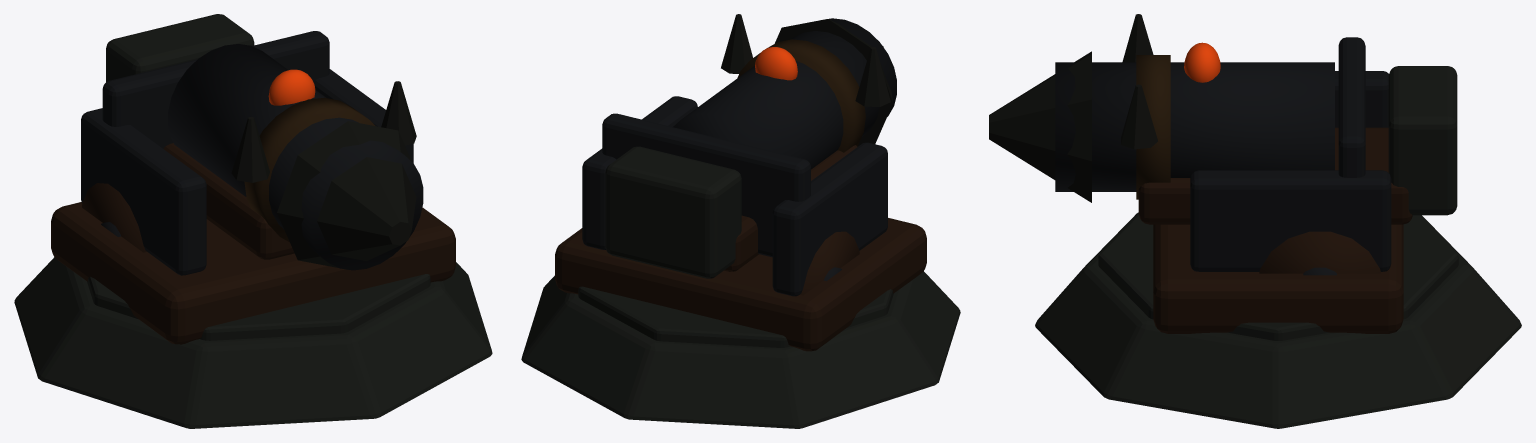
Rendered from TowerDestroy3_pose.obj.
The picture shows the model from 3 angles, left to right: view 1: azimuth 30°, elevation 25°; view 2: azimuth 150°, elevation 25°; view 3: azimuth 270°, elevation 25°; orthographic projection. The views are drawn at different scales.
Visible parts, largest first — view 1: rough_stone_foundation_lower_course, reinforced_oak_sled, black_ram_barrel, stone_breaker_head, iron_ram_cheek, rough_stone_foundation_upper_course, iron_ram_mantle, stone_counterweight, oak_ram_bed, bronze_ram_band, heavy_wood_wheel, iron_ram_cheek.001 (+3 smaller); view 2: rough_stone_foundation_lower_course, reinforced_oak_sled, stone_counterweight, black_ram_barrel, iron_ram_cheek, iron_ram_mantle, rough_stone_foundation_upper_course, bronze_ram_band, iron_ram_cheek.001, stone_breaker_head, heavy_wood_wheel, oak_ram_bed (+3 smaller); view 3: rough_stone_foundation_lower_course, black_ram_barrel, iron_ram_cheek.001, reinforced_oak_sled, stone_counterweight, rough_stone_foundation_upper_course, stone_breaker_head, oak_ram_bed, iron_ram_mantle, heavy_wood_wheel.001, bronze_ram_band, iron_ram_cheek (+3 smaller).
Boxes of the visible parts, x1,y1,x2,y2 form: rough_stone_foundation_lower_course: [14, 257, 492, 428]; reinforced_oak_sled: [51, 202, 455, 344]; black_ram_barrel: [168, 44, 423, 270]; stone_breaker_head: [277, 121, 416, 269]; iron_ram_cheek: [81, 108, 206, 275]; rough_stone_foundation_upper_course: [87, 274, 430, 340]; iron_ram_mantle: [102, 31, 329, 148]; stone_counterweight: [106, 14, 254, 82]; oak_ram_bed: [163, 143, 294, 259]; bronze_ram_band: [244, 97, 374, 241]; heavy_wood_wheel: [82, 183, 146, 252]; iron_ram_cheek.001: [313, 69, 413, 162]; rough_stone_foundation_lower_course: [521, 271, 960, 428]; reinforced_oak_sled: [555, 218, 926, 351]; stone_counterweight: [605, 146, 741, 278]; black_ram_barrel: [673, 18, 896, 169]; iron_ram_cheek: [772, 142, 887, 296]; iron_ram_mantle: [602, 113, 810, 257]; rough_stone_foundation_upper_course: [578, 286, 893, 347]; bronze_ram_band: [737, 39, 865, 152]; iron_ram_cheek.001: [582, 96, 697, 249]; stone_breaker_head: [775, 19, 892, 146]; heavy_wood_wheel: [800, 231, 859, 295]; oak_ram_bed: [724, 145, 857, 271]; rough_stone_foundation_lower_course: [1035, 212, 1521, 428]; black_ram_barrel: [1055, 62, 1334, 191]; iron_ram_cheek.001: [1190, 170, 1391, 271]; reinforced_oak_sled: [1153, 224, 1403, 333]; stone_counterweight: [1388, 66, 1457, 215]; rough_stone_foundation_upper_course: [1098, 214, 1458, 340]; stone_breaker_head: [989, 51, 1091, 202]; oak_ram_bed: [1138, 127, 1412, 224]; iron_ram_mantle: [1338, 37, 1365, 177]; heavy_wood_wheel.001: [1259, 231, 1380, 273]; bronze_ram_band: [1136, 55, 1170, 199]; iron_ram_cheek: [1335, 71, 1389, 127].
Bounding box in the file's own units: 1.99 × 1.27 × 2.17.
